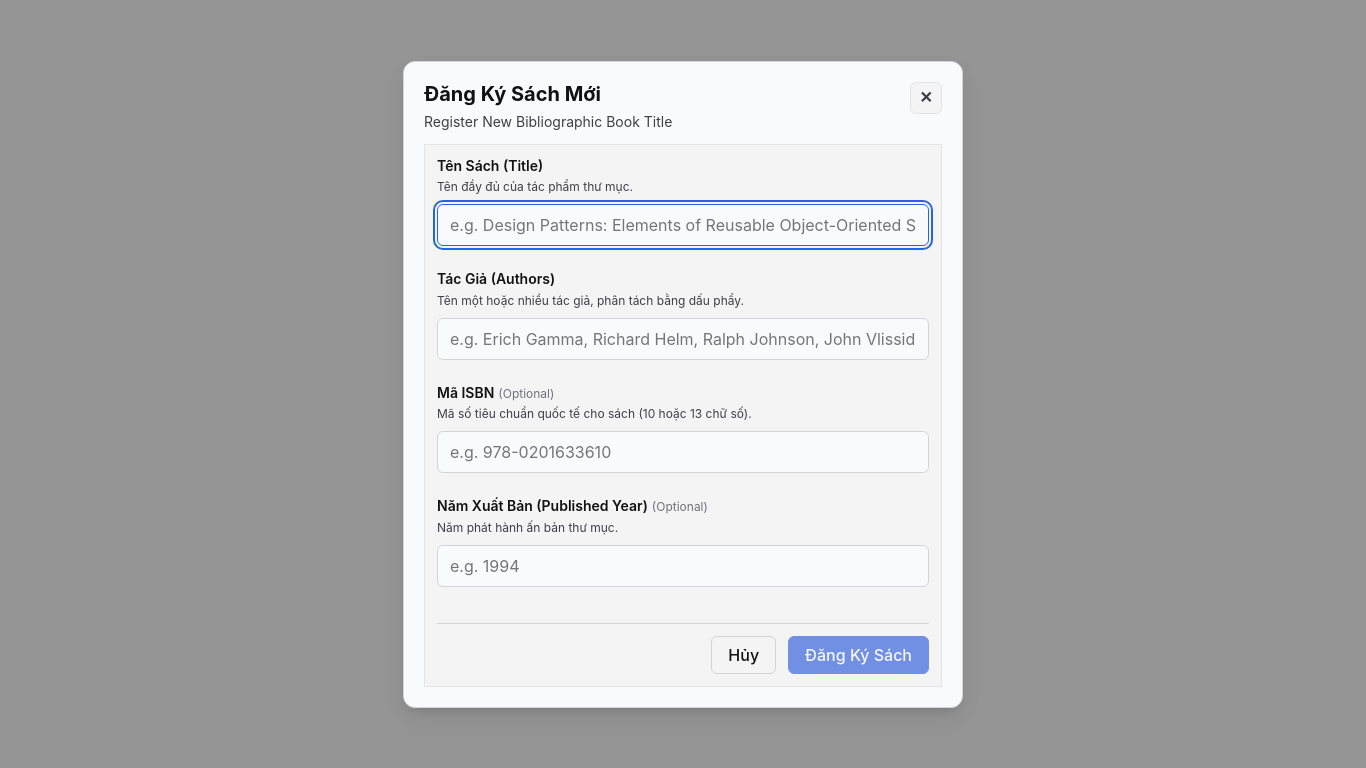
Test: CreateBookModal Component (M-05) › renders error message when book creation fails
This screenshot has width=1366, height=768.
Replace the text in the field labelled "Tên Sách (Title)" with "Duplicate Book" at [683, 225], box [437,204,929,246]
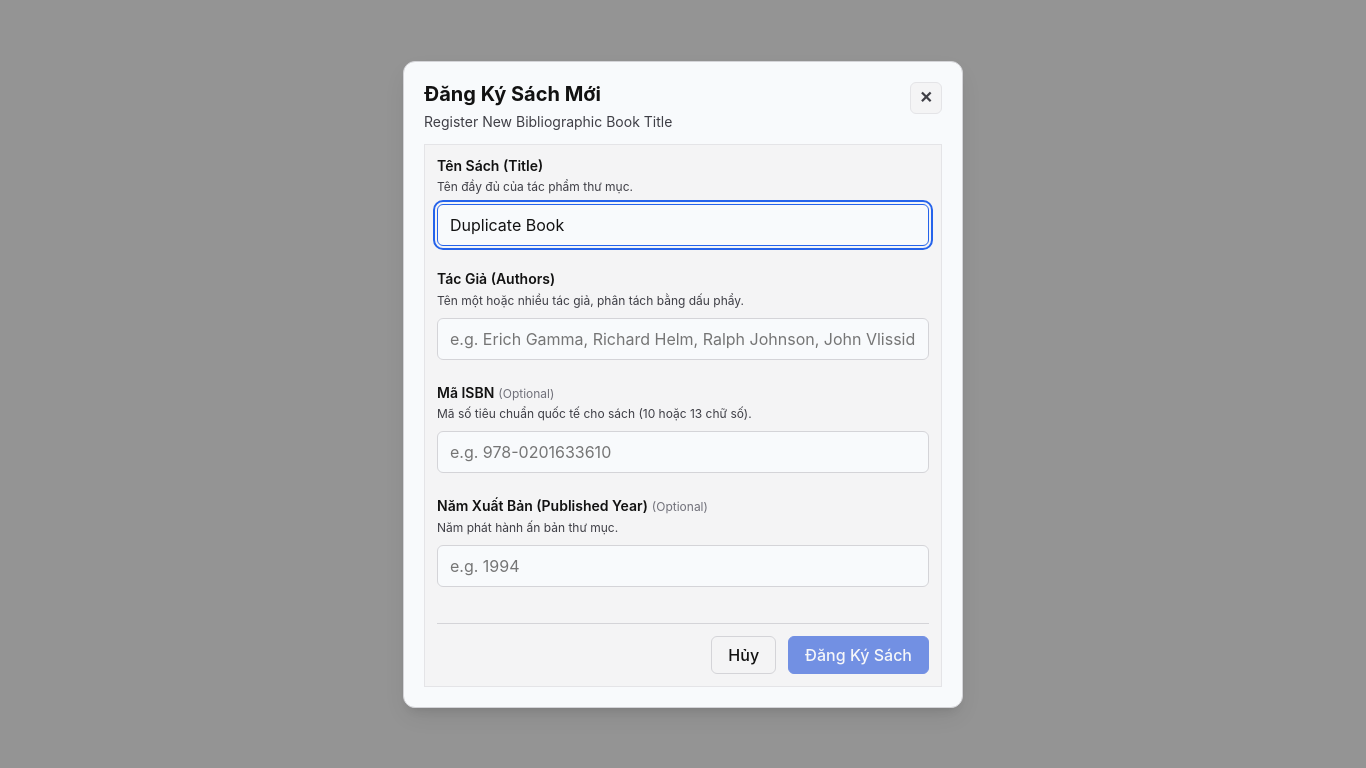
Replace the text in the field labelled "Tác Giả (Authors)" with "Author" at [683, 338], box [437,318,929,360]
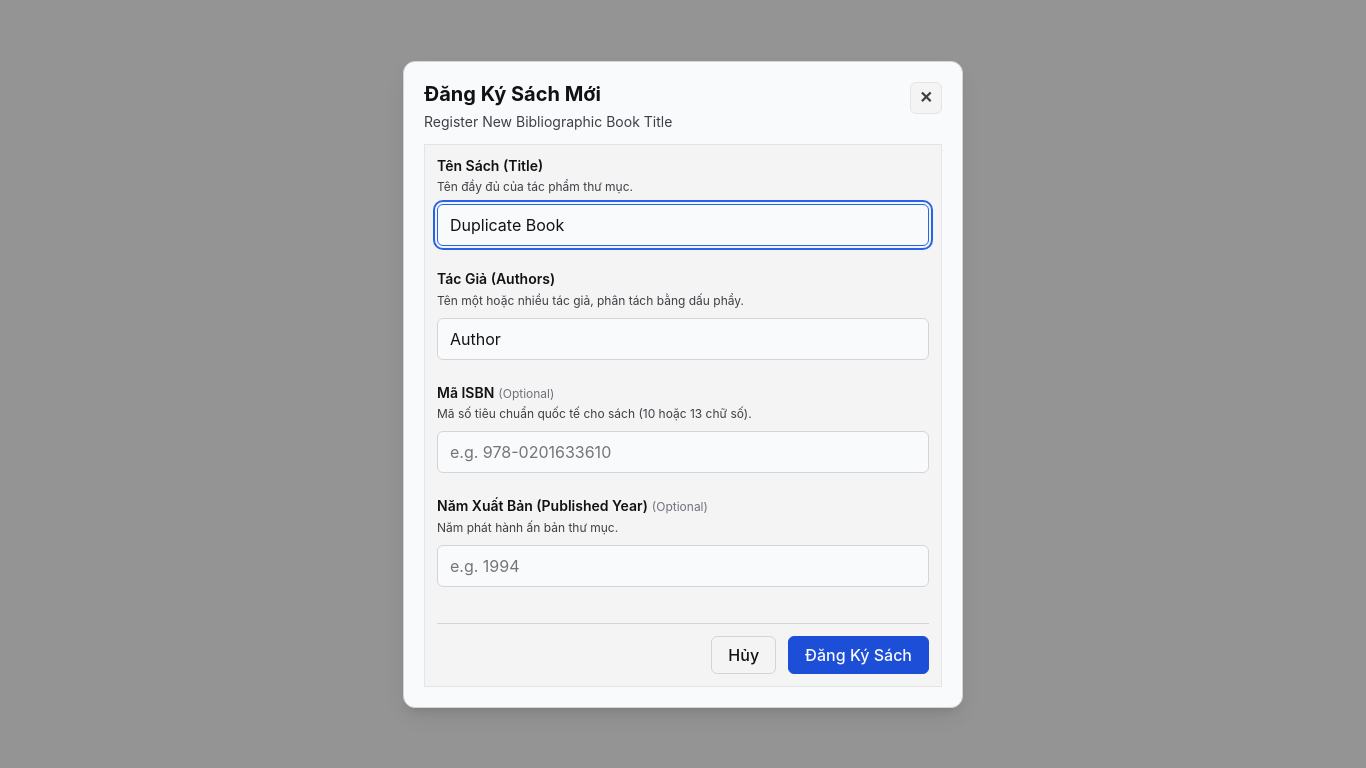
Click the button "Đăng Ký Sách" at [859, 654], box [788,636,929,674]
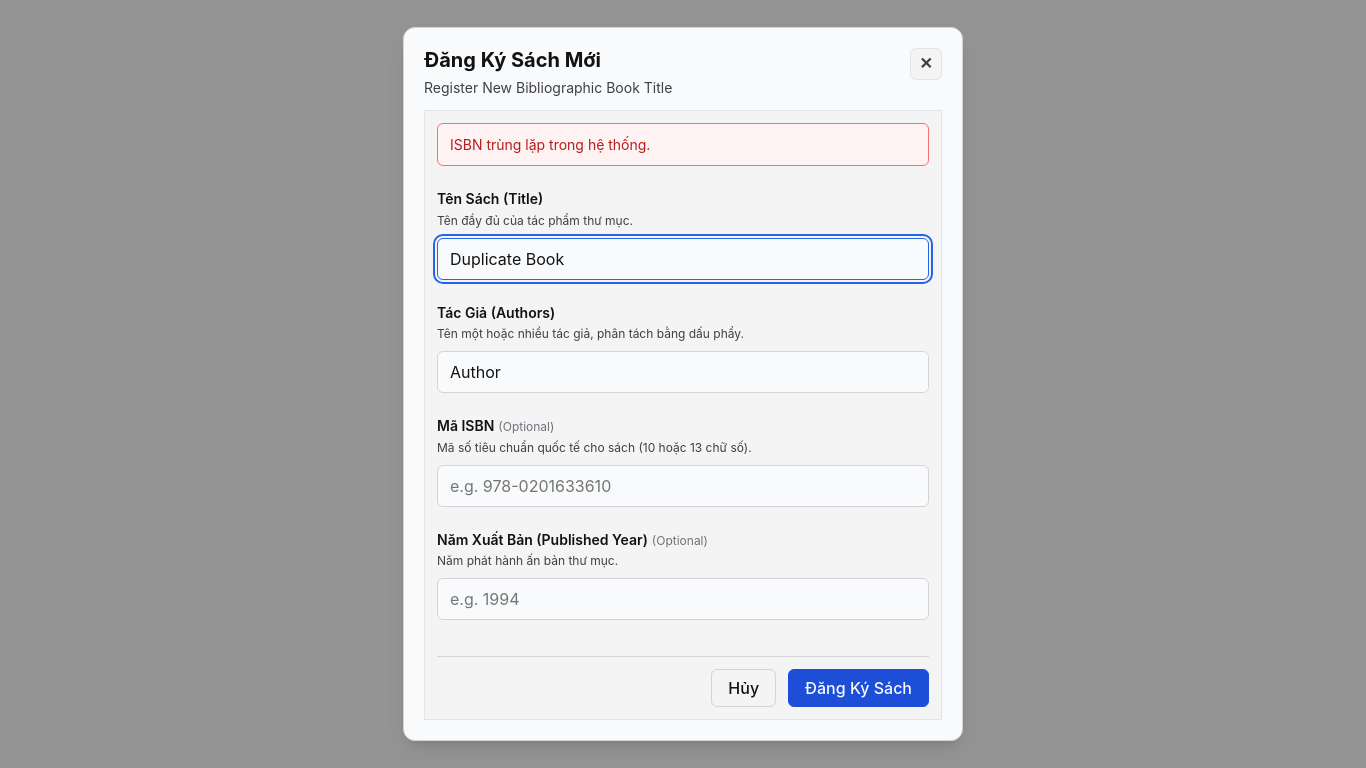
Check: the message shows "ISBN trùng lặp", box [450,136,650,153]
